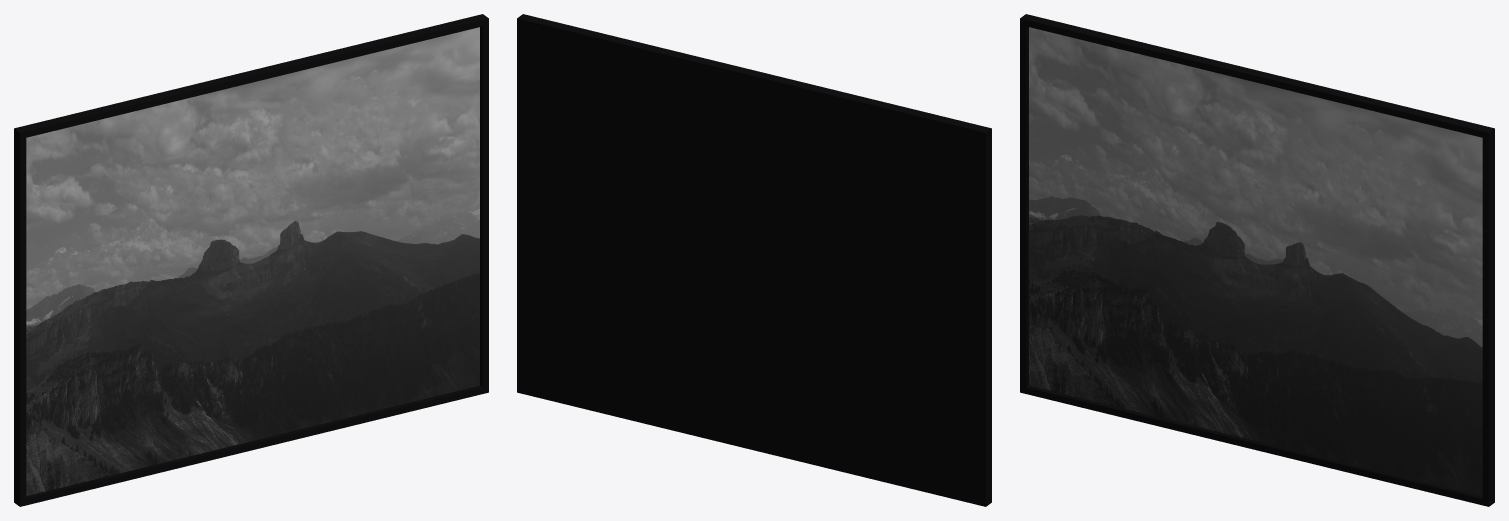
File: frame1.glb
3 renders of one model, left to right at view 1: azimuth 30°, elevation 25°; view 2: azimuth 150°, elevation 25°; view 3: azimuth 330°, elevation 25°, orthographic.
Visible parts, largest first — view 1: Plane; view 2: Plane; view 3: Plane.
Boxes of the visible parts, <box> form: Plane: <box>14,14,488,506</box>; Plane: <box>517,14,991,506</box>; Plane: <box>1020,14,1494,506</box>.
Bounding box in the file's own units: 2.62 × 2 × 0.0584.
2 materials, 1 textured.
